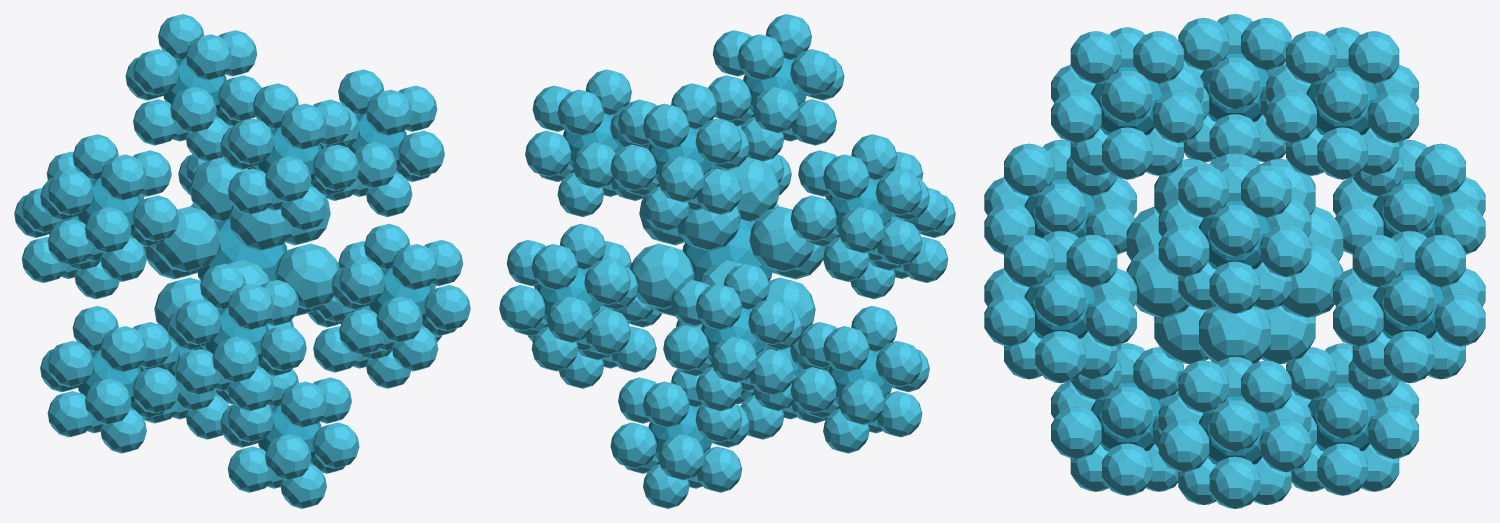
The model's file is fractalrhombicosidodecahedron2.glb.
3 views of the same model, side by side, from view 1: azimuth 30°, elevation 25°; view 2: azimuth 150°, elevation 25°; view 3: azimuth 270°, elevation 25° (orthographic). The views are drawn at different scales.
Size of the model in its own units: 9.28 by 9.28 by 9.28.
